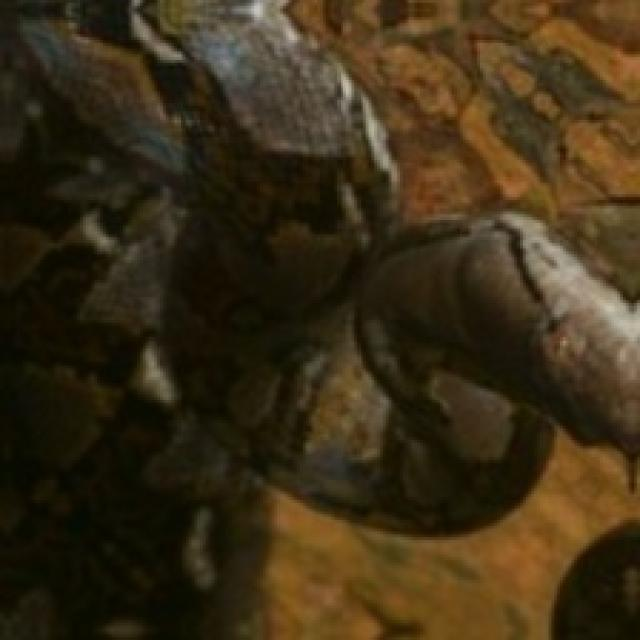reticulated python: (1, 0, 640, 639)
